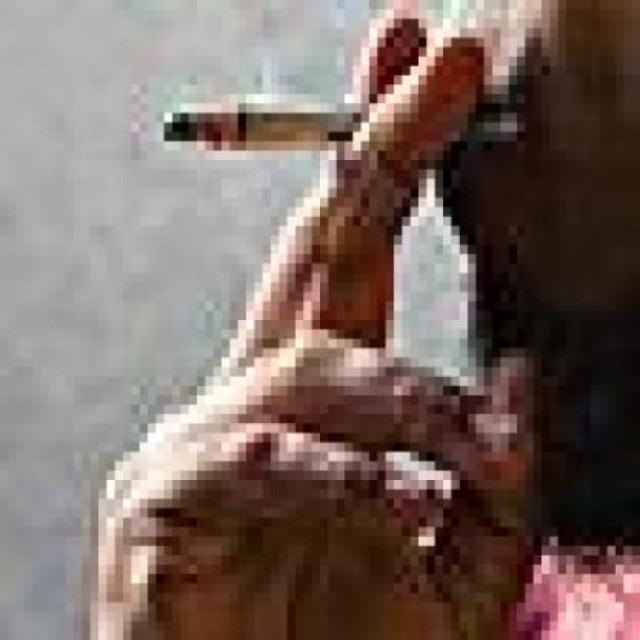rokok: (156, 99, 530, 160)
